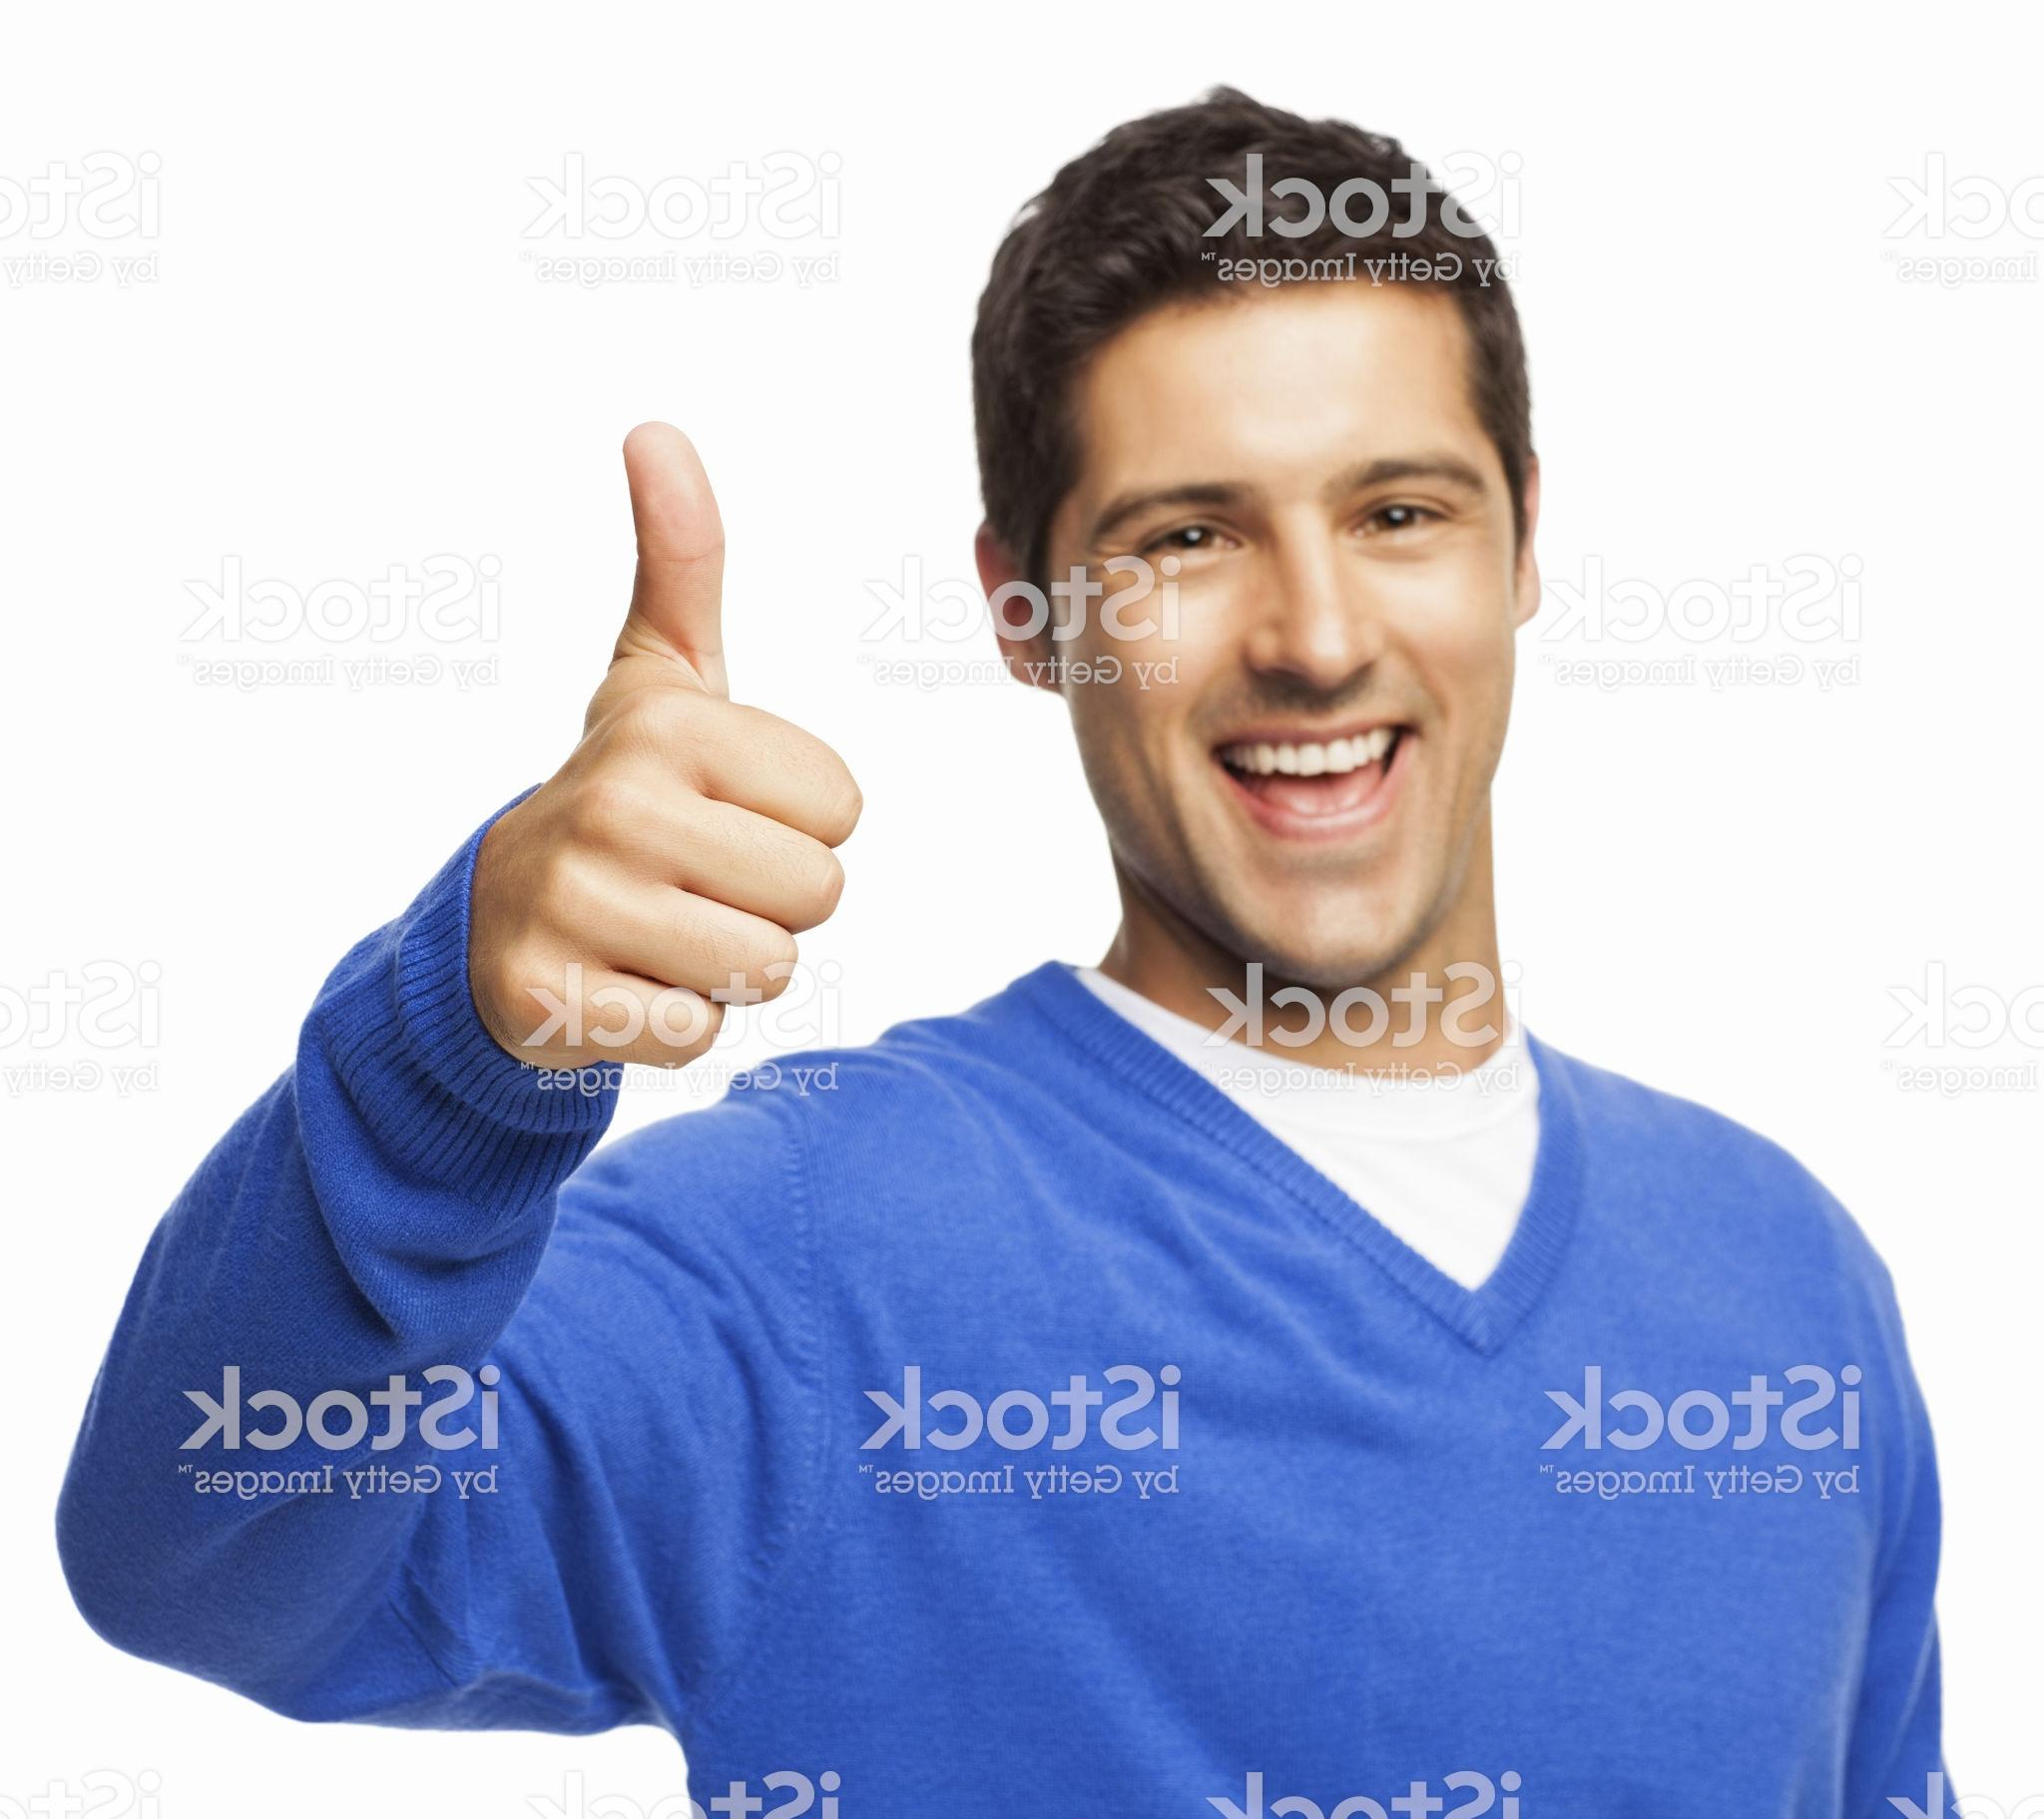thumbsup: (515, 421, 871, 1068)
